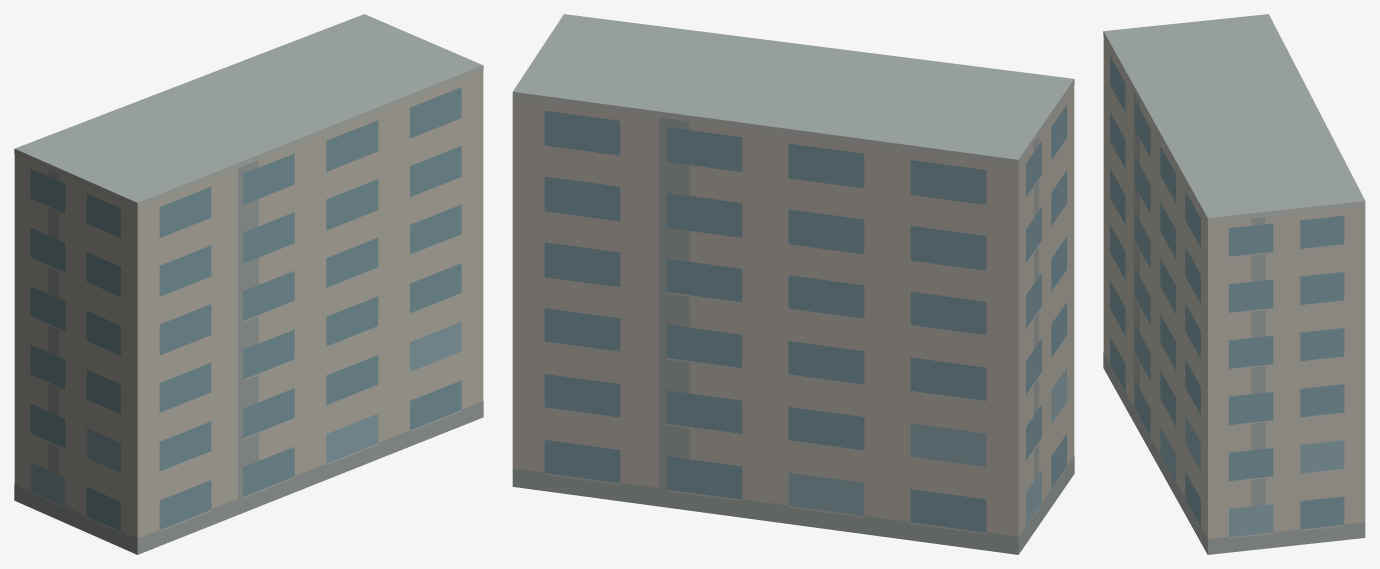
The model's file is survey-upis-32888982.glb.
3 views of the same model, side by side, from view 1: azimuth 30°, elevation 25°; view 2: azimuth 150°, elevation 25°; view 3: azimuth 270°, elevation 25° (orthographic). The views are drawn at different scales.
Parts seen in each view (by area): view 1: survey-upis-32888982.tmp; view 2: survey-upis-32888982.tmp; view 3: survey-upis-32888982.tmp.
Part boxes in pixels (bbox=[...]): survey-upis-32888982.tmp: bbox=[14, 14, 483, 554]; survey-upis-32888982.tmp: bbox=[512, 14, 1074, 554]; survey-upis-32888982.tmp: bbox=[1103, 14, 1365, 554].
Bounding box in the file's own units: 21.25 × 16.35 × 11.53.
